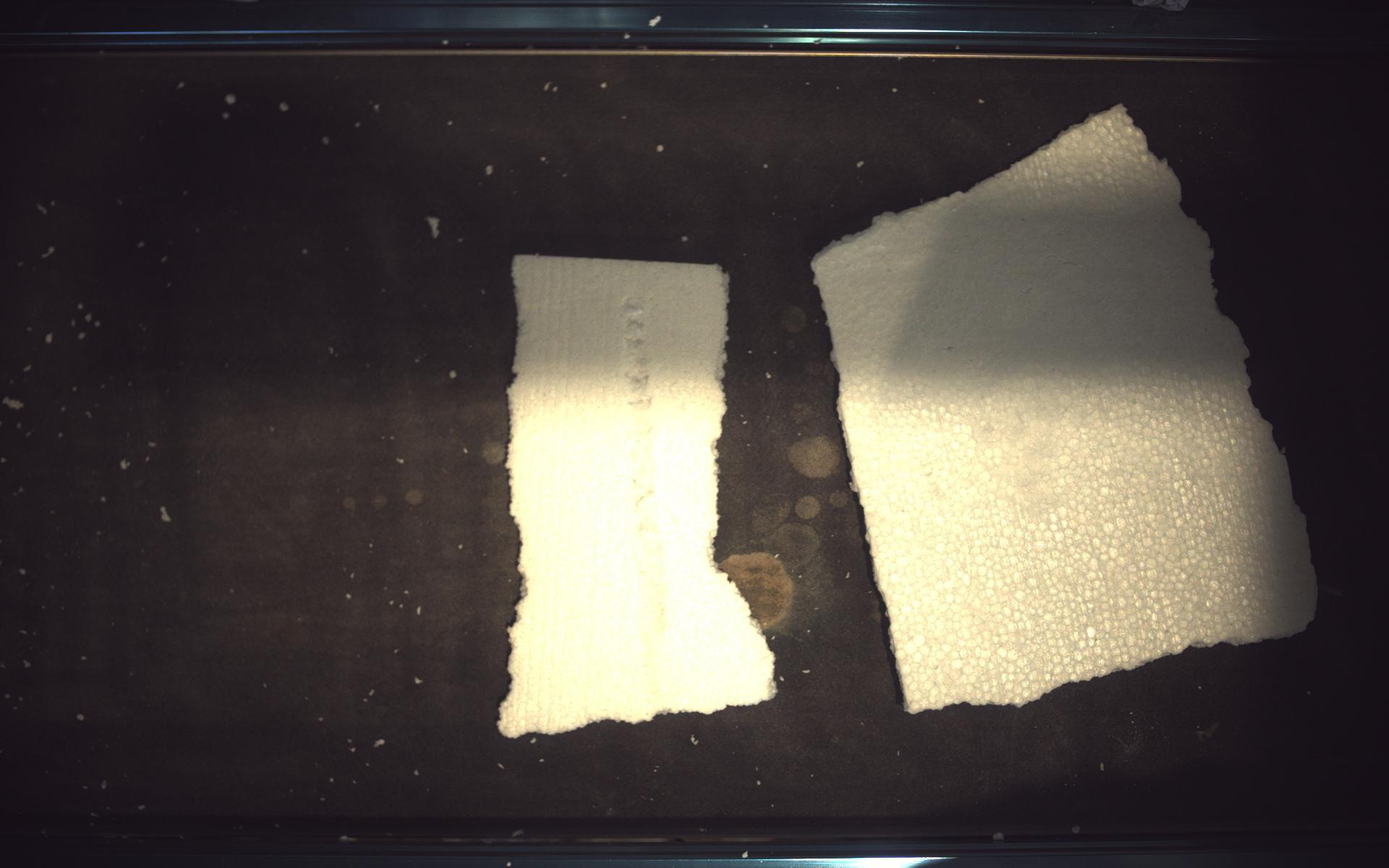foam: (815, 105, 1320, 714), (498, 255, 776, 739)
